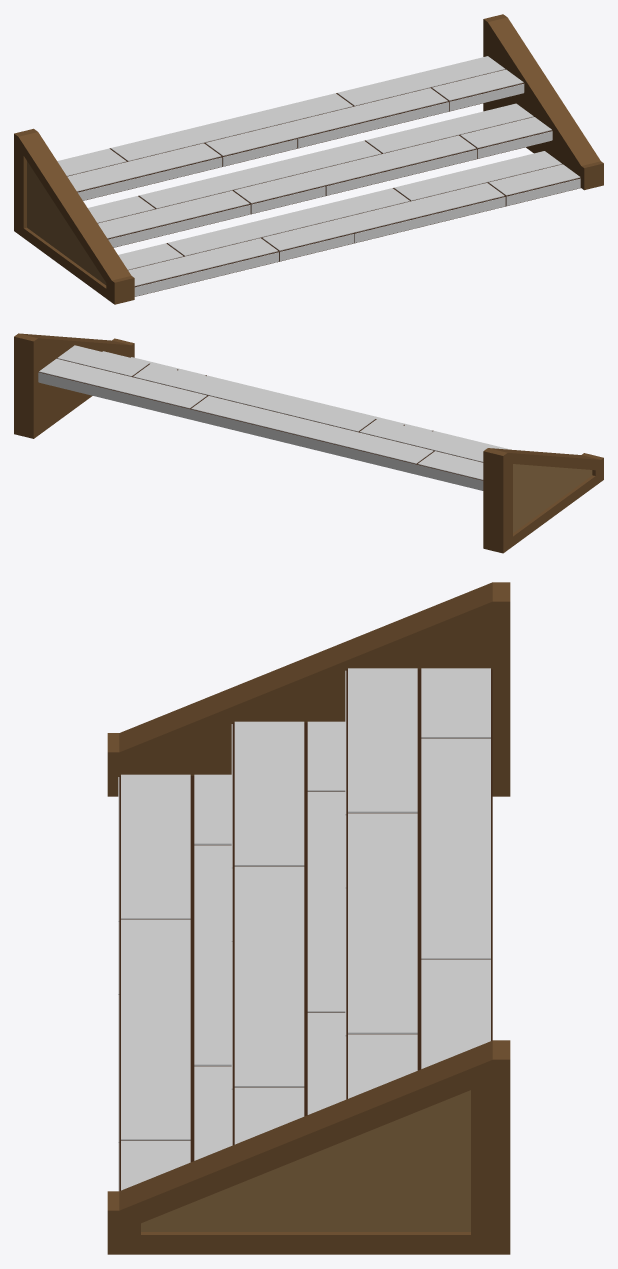
File: stair2.fbx
3 renders of one model, top to bottom at view 1: azimuth 30°, elevation 25°; view 2: azimuth 150°, elevation 25°; view 3: azimuth 270°, elevation 25°, orthographic. The views are drawn at different scales.
Visible parts, largest first — view 1: stair; view 2: stair; view 3: stair.
Boxes of the visible parts, x1,y1,x2,y2 form: stair: (14, 14, 603, 304); stair: (14, 333, 603, 553); stair: (107, 582, 510, 1254).
Bounding box in the file's own units: 1215 × 231 × 433.
